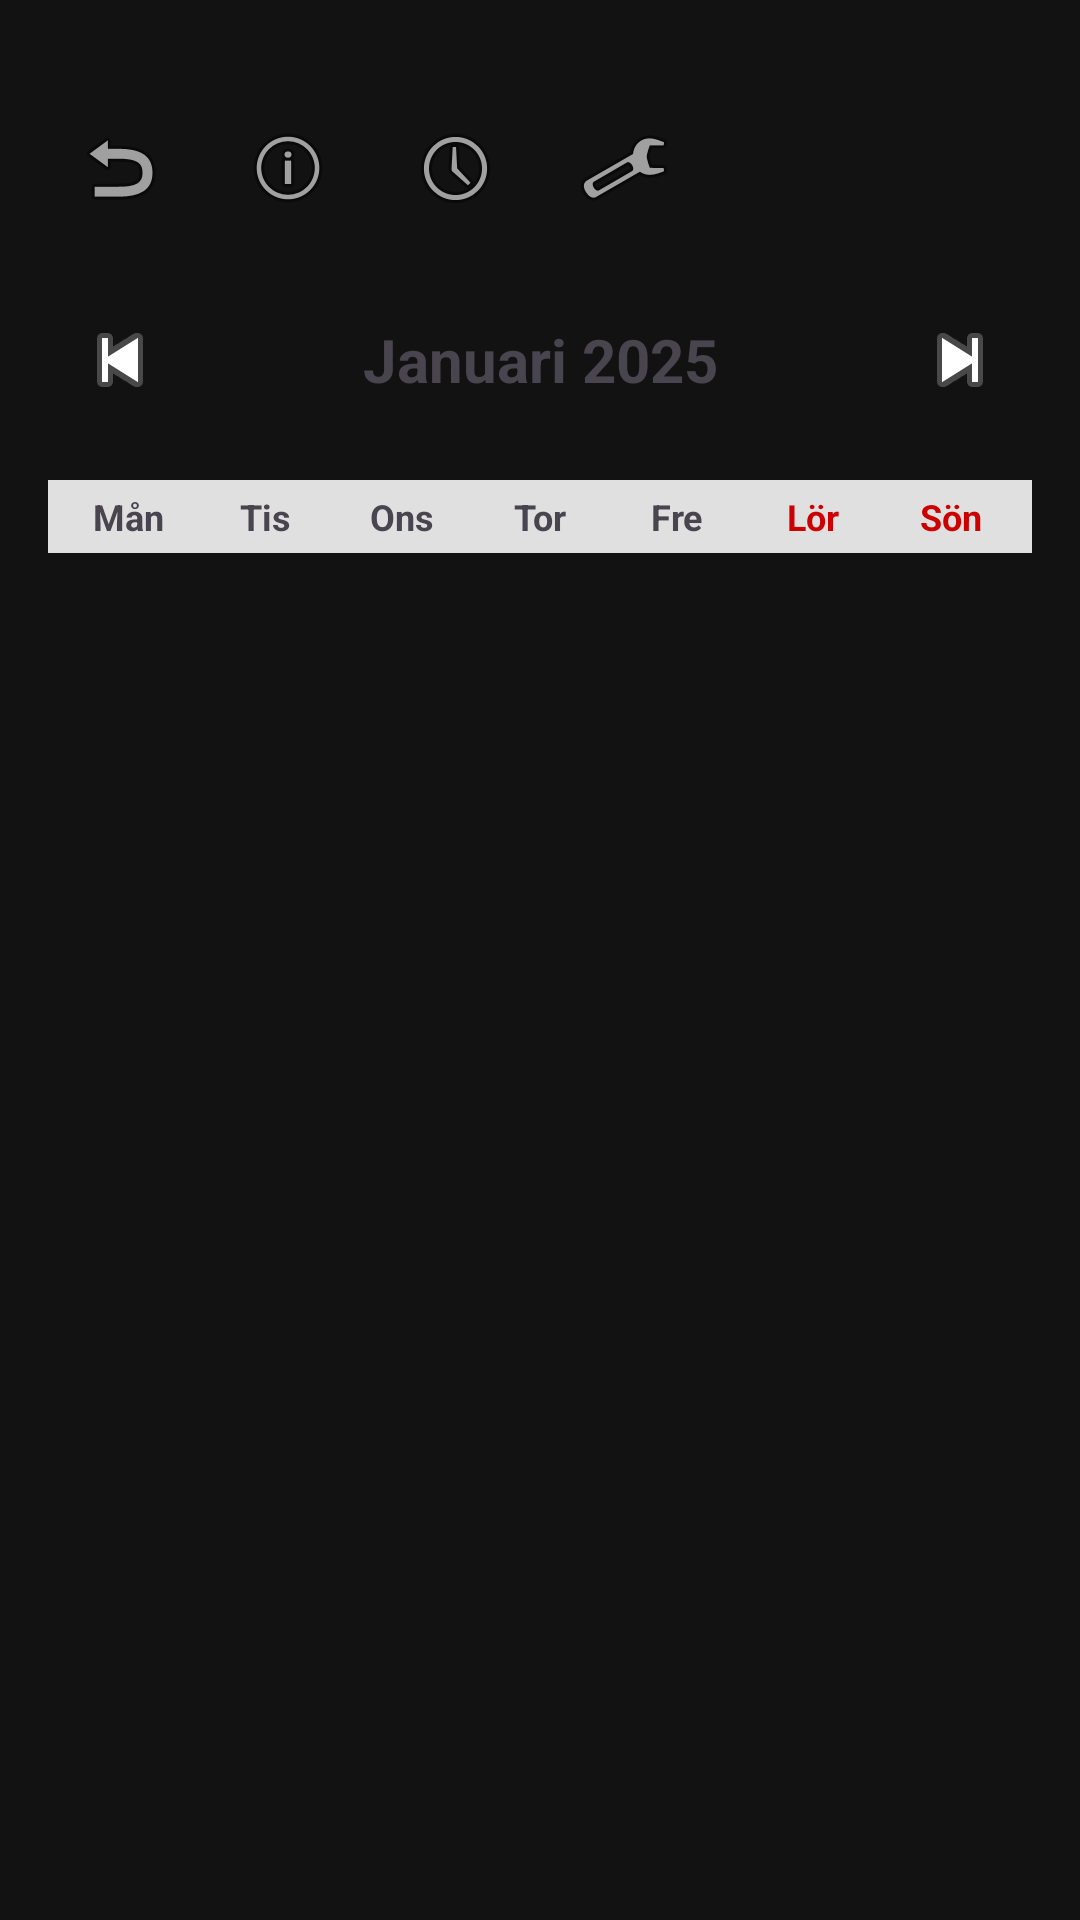

Locate icon controls on the screen. Image size 1080w x 1920h, boxes as bbox=(x1, y1, x2, y2).
Historik: bbox=(424, 137, 487, 200)
Inställningar: bbox=(584, 138, 664, 198)
Nästa månad: bbox=(937, 333, 983, 387)
